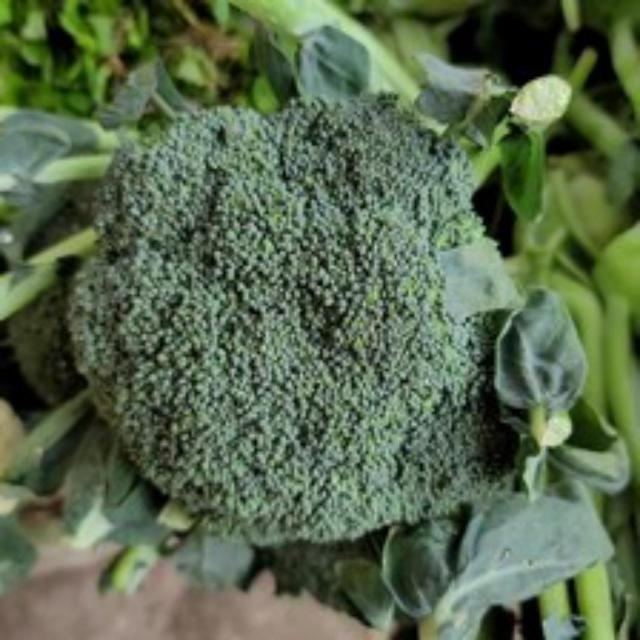broccoli: (70, 81, 517, 556)
